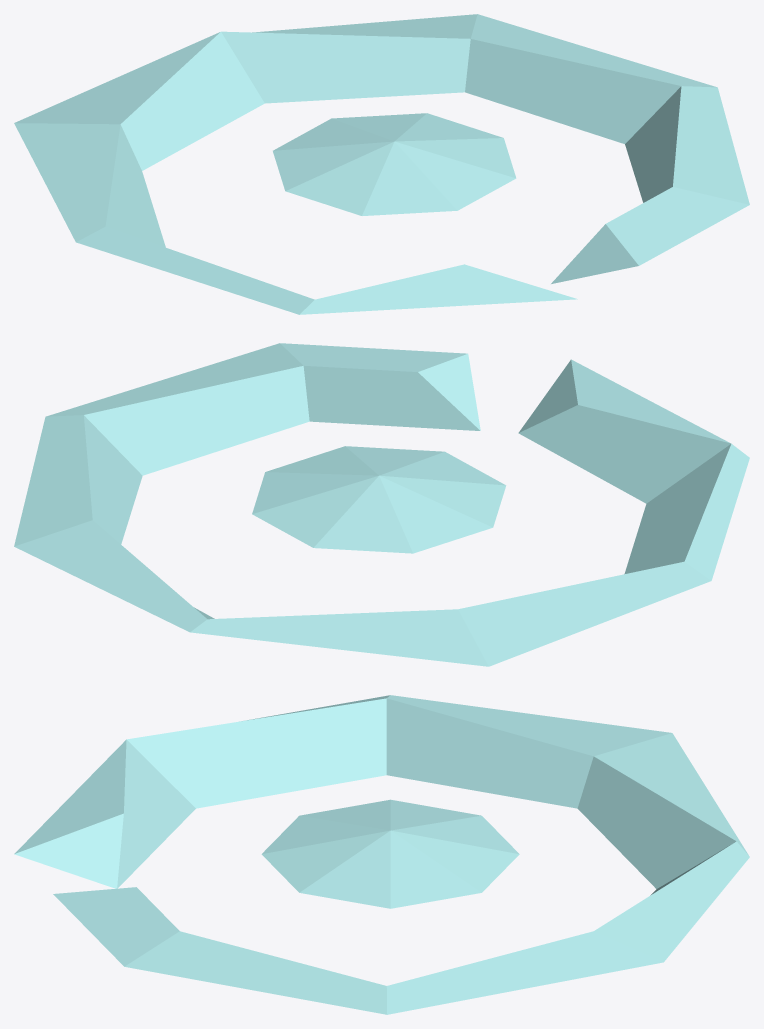
File: water-wave-circle.glb
3 renders of one model, top to bottom at view 1: azimuth 30°, elevation 25°; view 2: azimuth 150°, elevation 25°; view 3: azimuth 270°, elevation 25°, orthographic. The views are drawn at different scales.
Visible parts, largest first — view 1: water-wave-circle; view 2: water-wave-circle; view 3: water-wave-circle.
Part boxes in pixels (box(x1,y1,x2,y2)): water-wave-circle: box(14, 14, 749, 314); water-wave-circle: box(14, 343, 749, 666); water-wave-circle: box(14, 695, 749, 1014).
Bounding box in the file's own units: 0.6027 × 0.0515 × 0.5863.
Materials: 1 (1 with a texture image).
